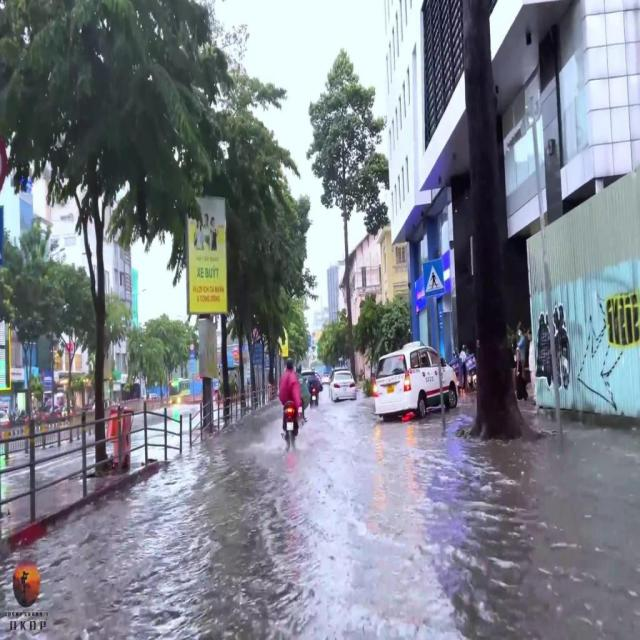duong_nguoi_di_bo_sang_ngang: (422, 258, 446, 297)
